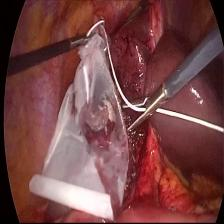Grasper: (121, 85, 165, 140), (71, 29, 94, 53)
Specimen Bag: (28, 17, 129, 221)
